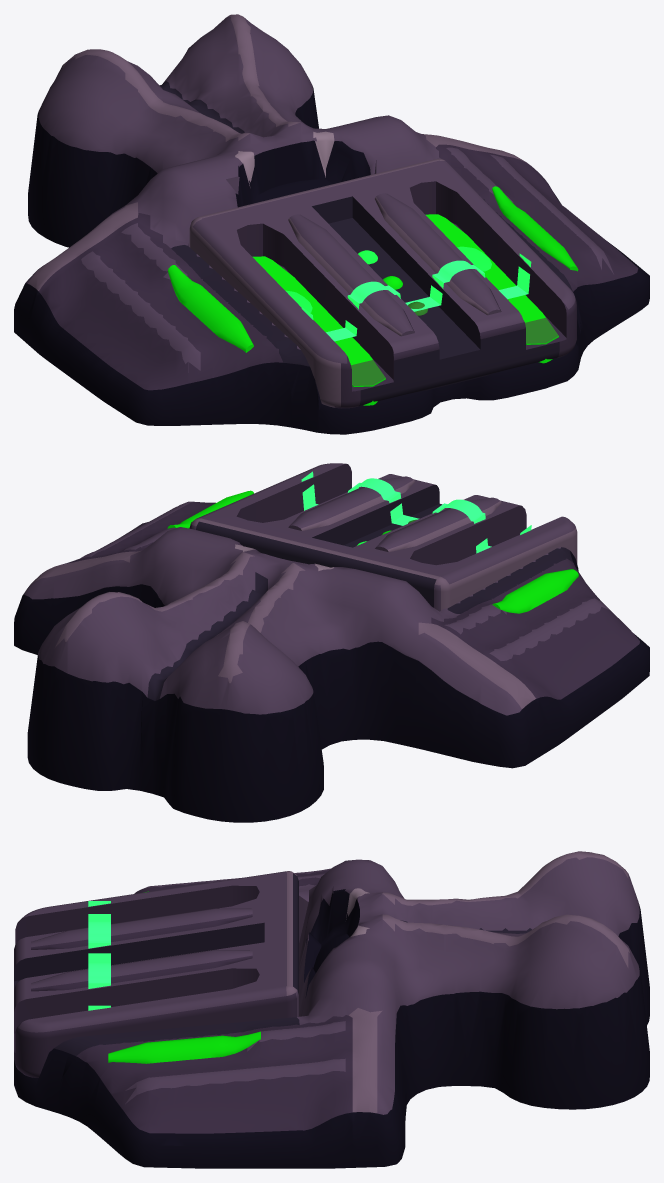
The model's file is purple_beacon_13.glb.
3 views of the same model, one above another, from view 1: azimuth 30°, elevation 25°; view 2: azimuth 150°, elevation 25°; view 3: azimuth 270°, elevation 25° (orthographic). The views are drawn at different scales.
Visible parts, largest first — view 1: body, block, ridge1, ridge-1, floor-1, strip1, bar, floor1, strip-1; view 2: body, block, ridge-1, ridge1, bar, strip1, strip-1; view 3: body, block, ridge-1, ridge1, strip-1, bar.
Part boxes in pixels (left/top/right/bottom): body: left=14, top=14, right=649, bottom=434; block: left=189, top=158, right=576, bottom=408; ridge1: left=375, top=193, right=501, bottom=315; ridge-1: left=288, top=214, right=414, bottom=336; floor-1: left=252, top=256, right=385, bottom=405; strip1: left=168, top=265, right=253, bottom=352; bar: left=301, top=253, right=531, bottom=341; floor1: left=425, top=214, right=558, bottom=363; strip-1: left=492, top=186, right=578, bottom=271; body: left=14, top=501, right=649, bottom=822; block: left=189, top=463, right=577, bottom=611; ridge-1: left=375, top=497, right=501, bottom=552; ridge1: left=288, top=476, right=414, bottom=530; bar: left=301, top=471, right=531, bottom=553; strip1: left=492, top=569, right=578, bottom=613; strip-1: left=167, top=490, right=253, bottom=528; body: left=14, top=851, right=649, bottom=1168; block: left=14, top=871, right=298, bottom=1077; ridge-1: left=31, top=908, right=252, bottom=949; ridge1: left=31, top=949, right=252, bottom=991; strip-1: left=108, top=1031, right=260, bottom=1063; bar: left=88, top=901, right=110, bottom=1010.
Bounding box in the file's own units: 24 × 7.25 × 26.
